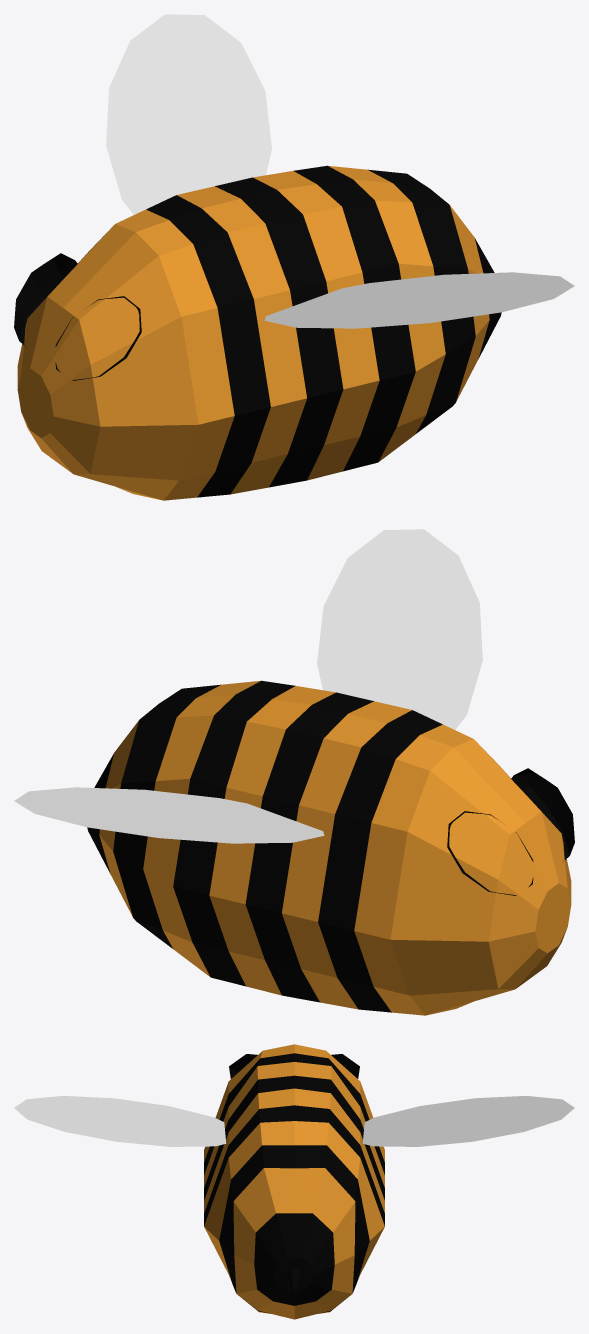
Rendered from bie.glb.
The picture shows the model from 3 angles, top to bottom: view 1: azimuth 30°, elevation 25°; view 2: azimuth 150°, elevation 25°; view 3: azimuth 270°, elevation 25°; orthographic projection. The views are drawn at different scales.
Visible parts, largest first — view 1: Cylinder; view 2: Cylinder; view 3: Cylinder.
Boxes of the visible parts, left/top/right/bottom form: Cylinder: left=14, top=14, right=574, bottom=500; Cylinder: left=14, top=529, right=574, bottom=1015; Cylinder: left=14, top=1044, right=574, bottom=1319.
Bounding box in the file's own units: 3.24 × 1.81 × 4.34.
